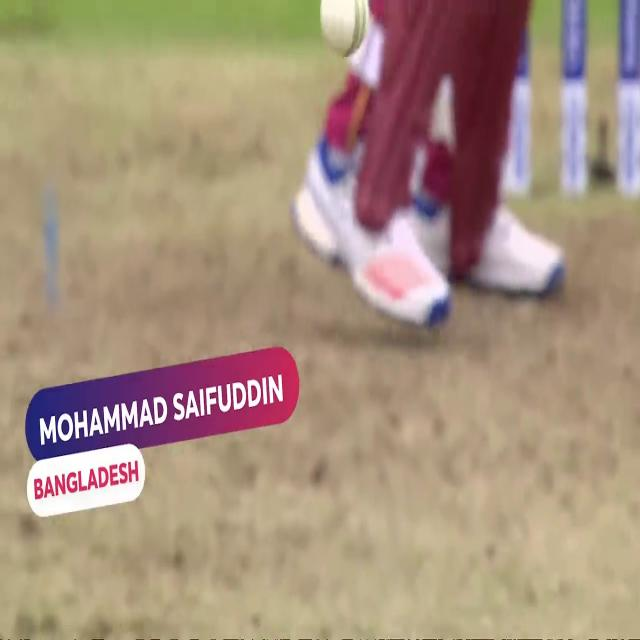ball: (316, 1, 372, 58)
